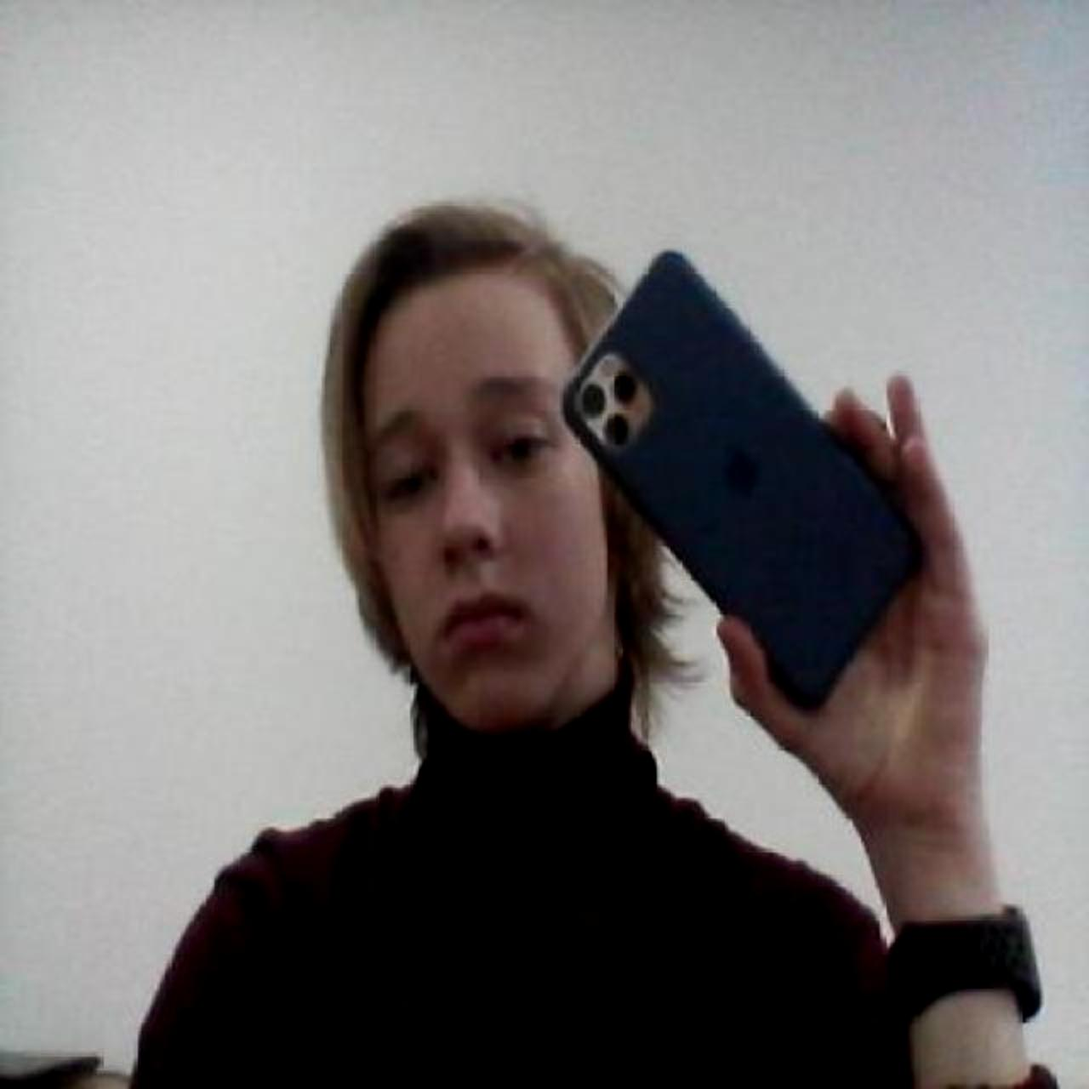phone: (566, 240, 959, 742)
